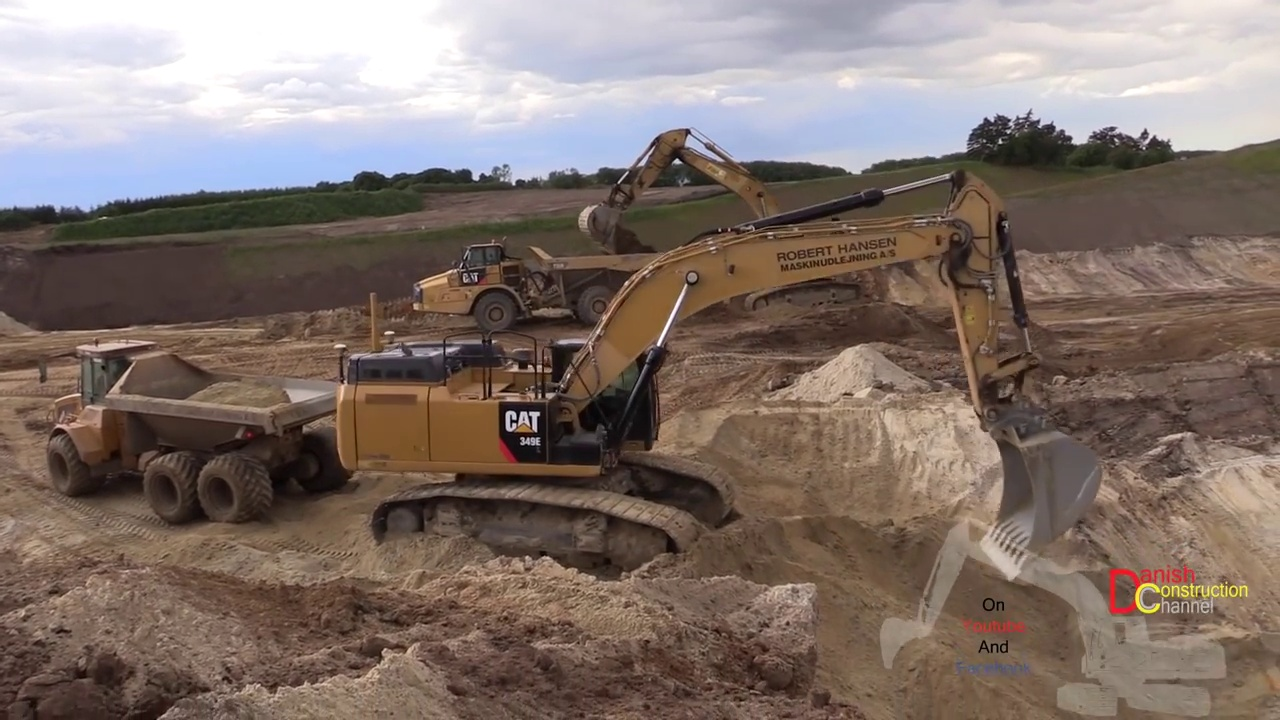dumper: (35, 338, 337, 524), (418, 241, 641, 330)
excavator: (336, 170, 1104, 588), (577, 128, 867, 316)
